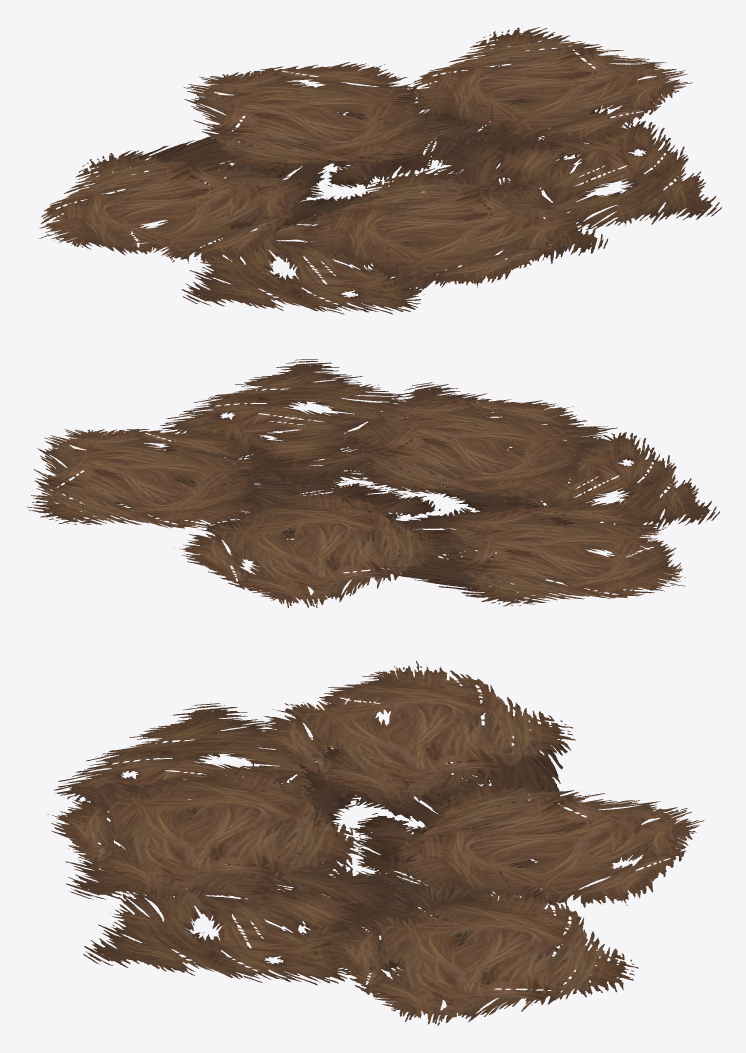
Rendered from fb_heiwhdch_daocao_01.FBX.
3 renders of one model, top to bottom at view 1: azimuth 30°, elevation 25°; view 2: azimuth 150°, elevation 25°; view 3: azimuth 270°, elevation 25°, orthographic. The views are drawn at different scales.
Visible parts, largest first — view 1: fb_heiwhdch_daocao_01; view 2: fb_heiwhdch_daocao_01; view 3: fb_heiwhdch_daocao_01.
Part boxes in pixels (box(x1,y1,x2,y2)): fb_heiwhdch_daocao_01: box(38, 27, 721, 314); fb_heiwhdch_daocao_01: box(27, 359, 719, 607); fb_heiwhdch_daocao_01: box(47, 660, 704, 1025).
Bounding box in the file's own units: 387 × 5.34 × 302.
